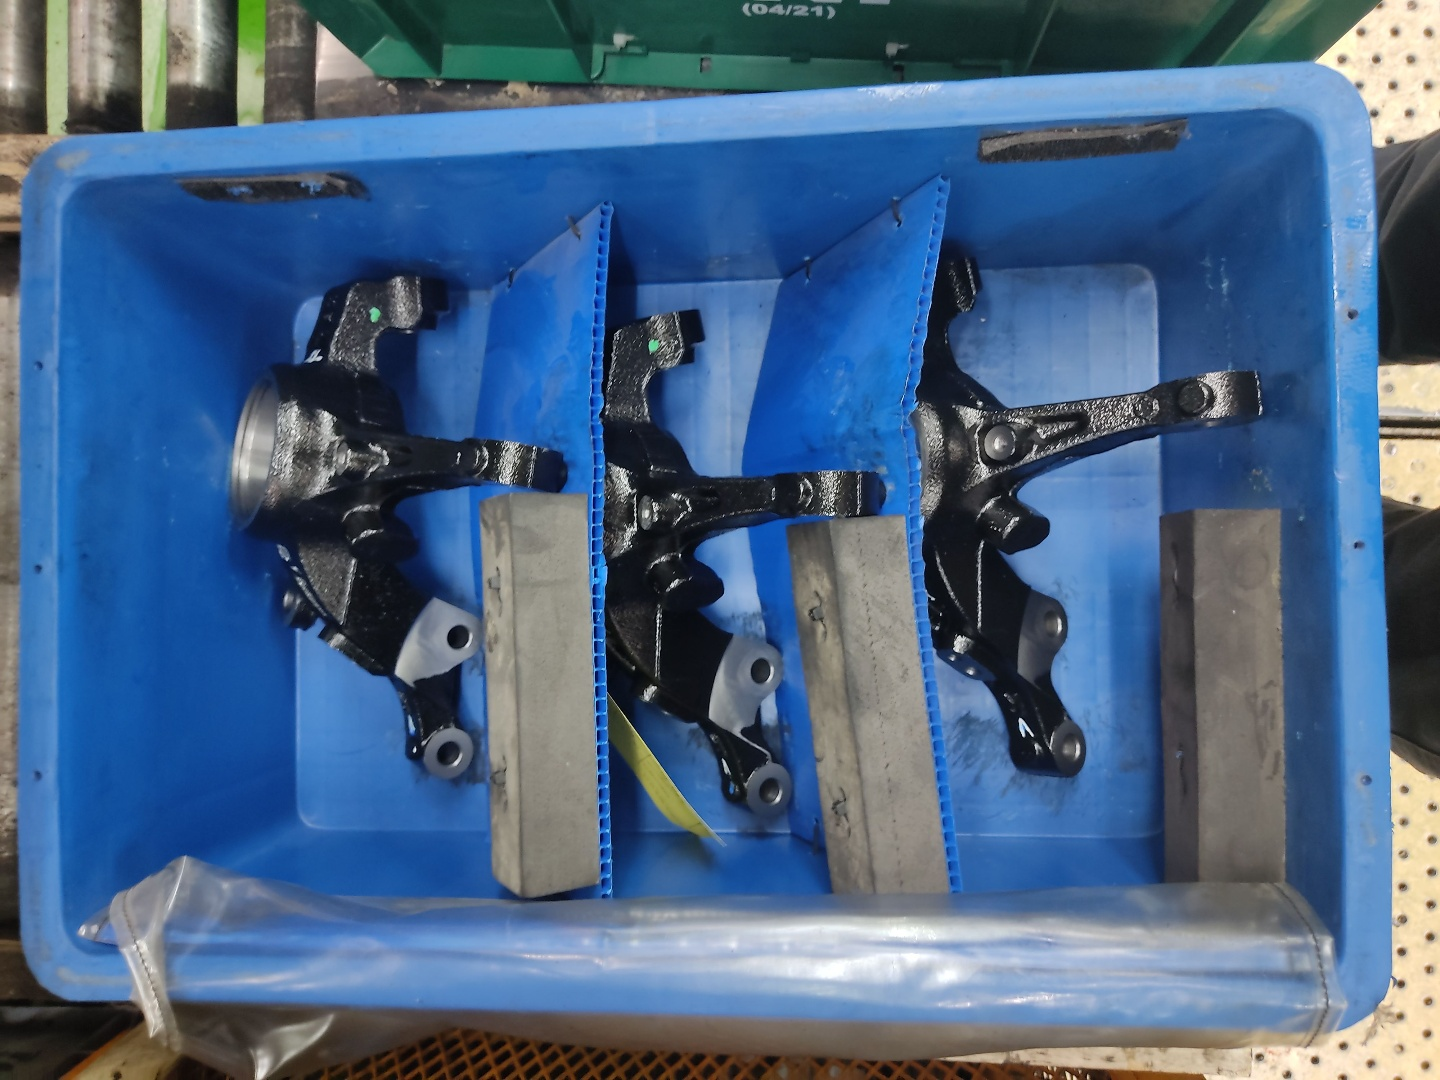non-rh: (906, 246, 1282, 788), (225, 264, 576, 791), (598, 302, 892, 832)
